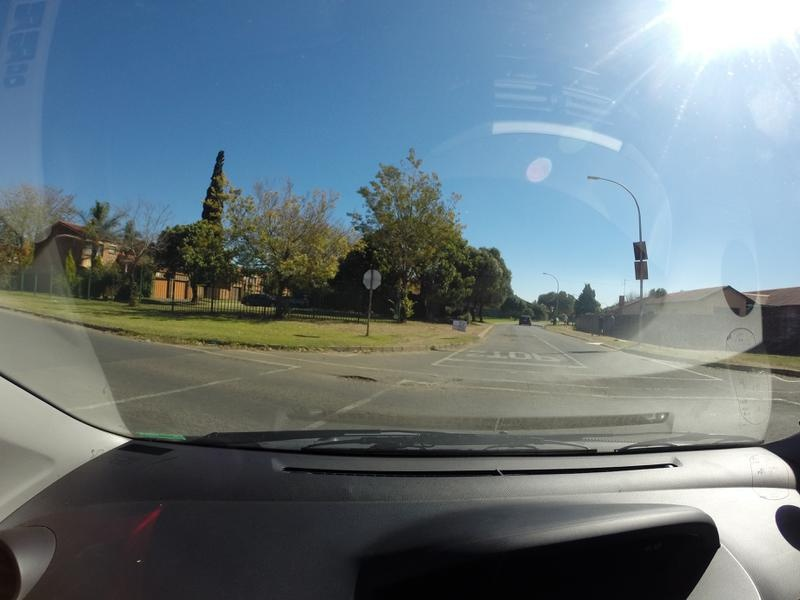pothole: (328, 363, 397, 389)
